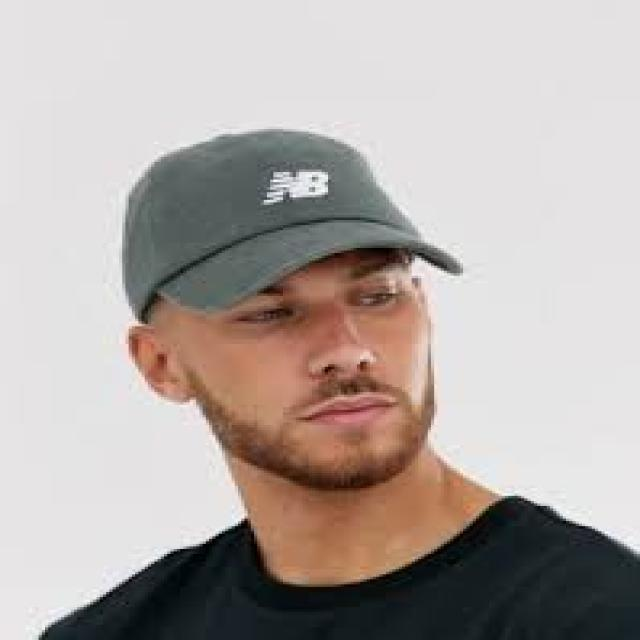cap: (103, 102, 481, 336)
